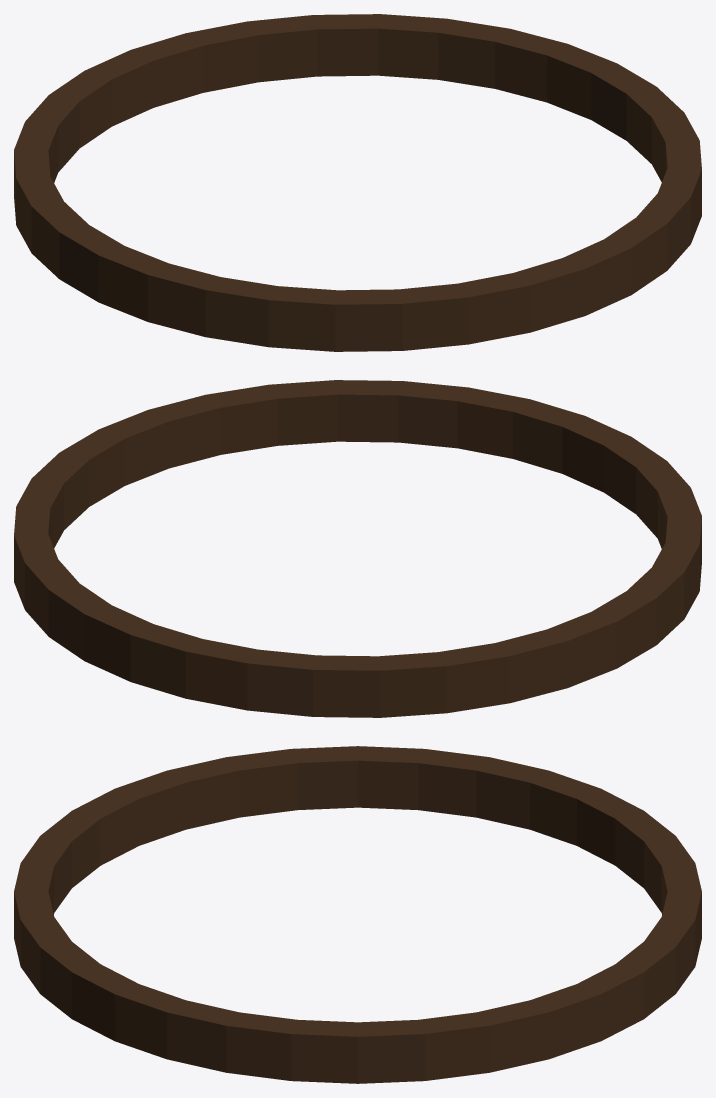
The model's file is koltso.fbx.
3 views of the same model, one above another, from view 1: azimuth 30°, elevation 25°; view 2: azimuth 150°, elevation 25°; view 3: azimuth 270°, elevation 25° (orthographic).
Parts seen in each view (by area): view 1: Circle; view 2: Circle; view 3: Circle.
Part boxes in pixels (bbox=[...]): Circle: bbox=[14, 14, 701, 351]; Circle: bbox=[14, 380, 701, 717]; Circle: bbox=[14, 746, 701, 1083].
Size of the model in its own units: 2 by 0.1508 by 2.
